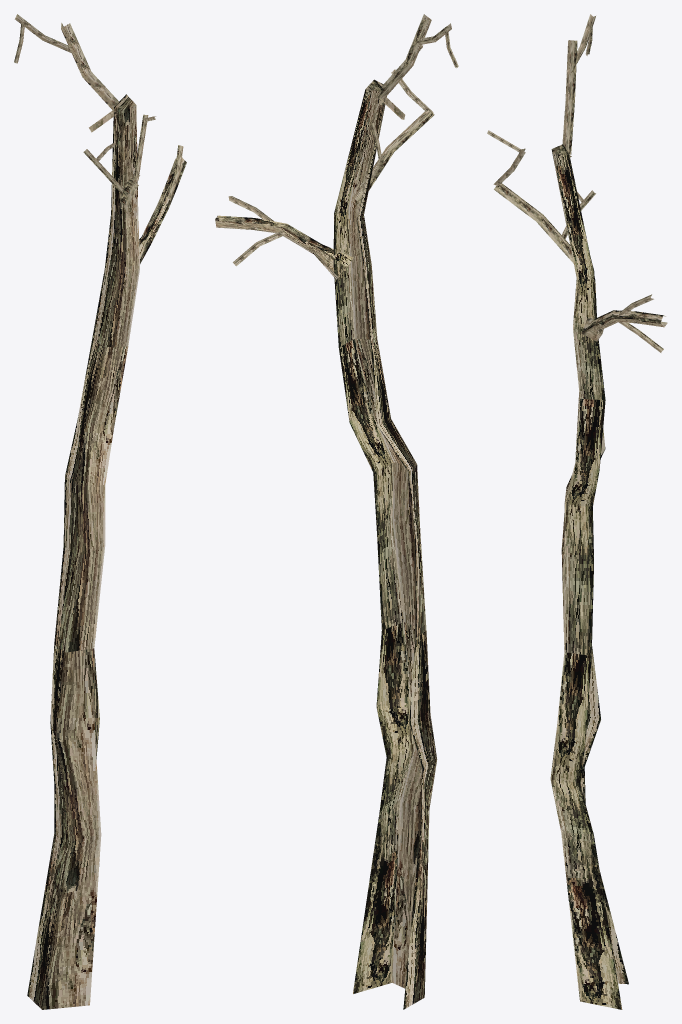
Rendered from stage-maya-p4-72.glb.
3 renders of one model, left to right at view 1: azimuth 30°, elevation 25°; view 2: azimuth 150°, elevation 25°; view 3: azimuth 270°, elevation 25°, orthographic. The views are drawn at different scales.
Bounding box in the file's own units: 5.58 × 25.41 × 4.35.
Materials: 1 (1 with a texture image).
